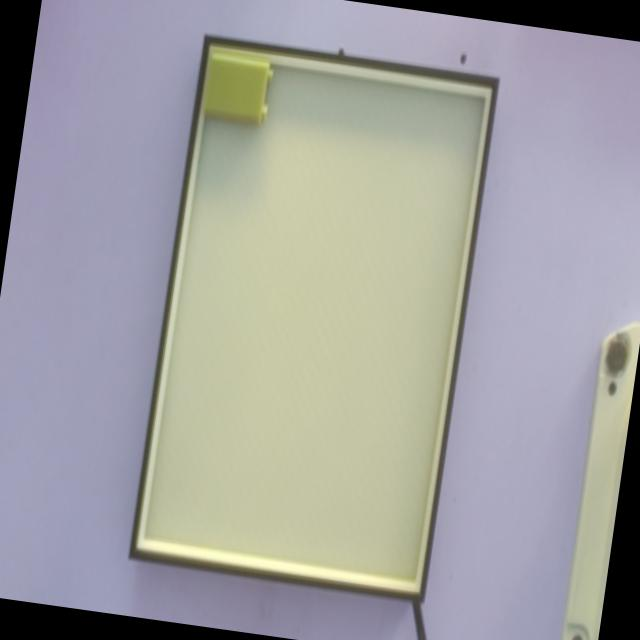bateria: (202, 52, 273, 125)
mesa: (128, 35, 499, 603)
